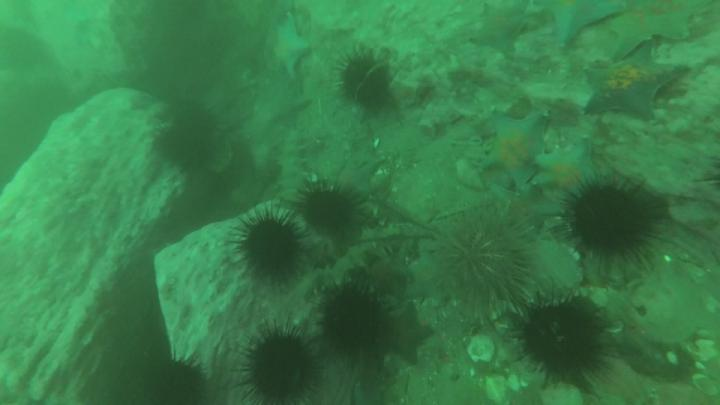echinus: (442, 224, 522, 307), (522, 302, 599, 373), (245, 334, 313, 402), (574, 186, 647, 249), (322, 286, 381, 352), (239, 220, 299, 278), (155, 119, 217, 165), (339, 58, 388, 106), (301, 193, 355, 233), (150, 365, 204, 405)
holothurian: (278, 132, 310, 204)
starfish: (578, 44, 688, 119), (480, 107, 547, 188), (607, 8, 696, 62), (536, 1, 627, 45), (536, 141, 603, 192), (499, 184, 565, 228), (384, 302, 432, 362), (266, 12, 312, 74), (477, 4, 526, 59), (371, 253, 414, 296)
